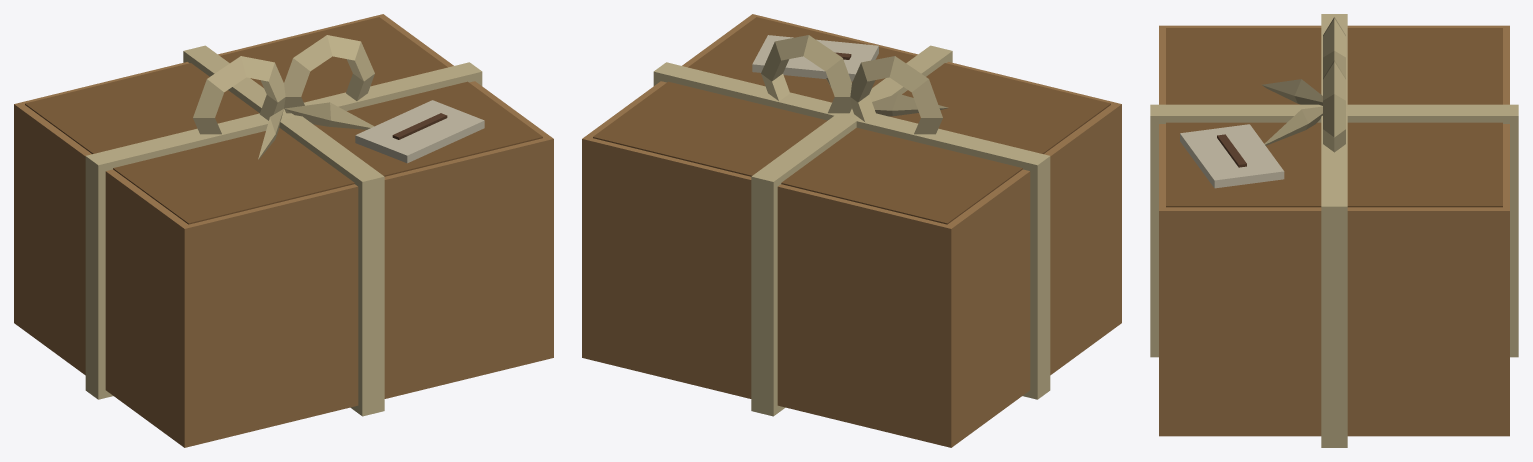
File: quest_parcel.glb
3 views of the same model, side by side, from view 1: azimuth 30°, elevation 25°; view 2: azimuth 150°, elevation 25°; view 3: azimuth 270°, elevation 25° (orthographic). The views are drawn at different scales.
Visible parts, largest first — view 1: quest_parcel; view 2: quest_parcel; view 3: quest_parcel.
Part boxes in pixels (x1,y1,x2,y2): quest_parcel: (14, 14, 553, 447); quest_parcel: (582, 14, 1121, 447); quest_parcel: (1150, 14, 1518, 447).
Bounding box in the file's own units: 0.312 × 0.235 × 0.252.
